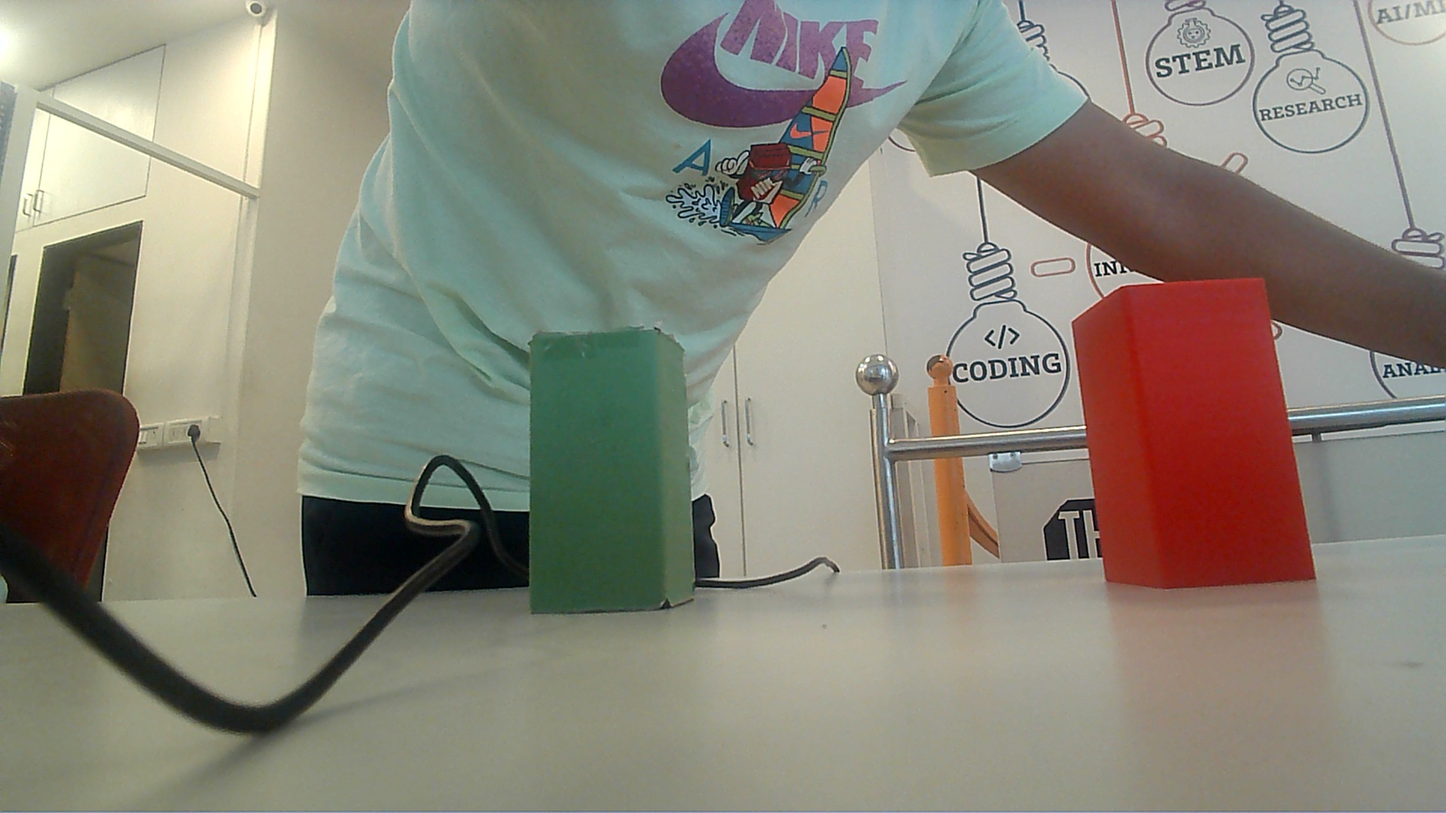red: (1066, 269, 1324, 612)
